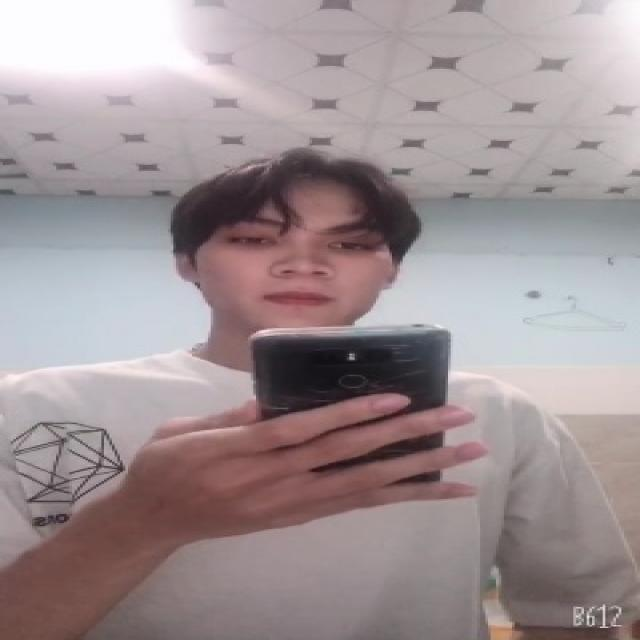Phone: (247, 320, 453, 490)
